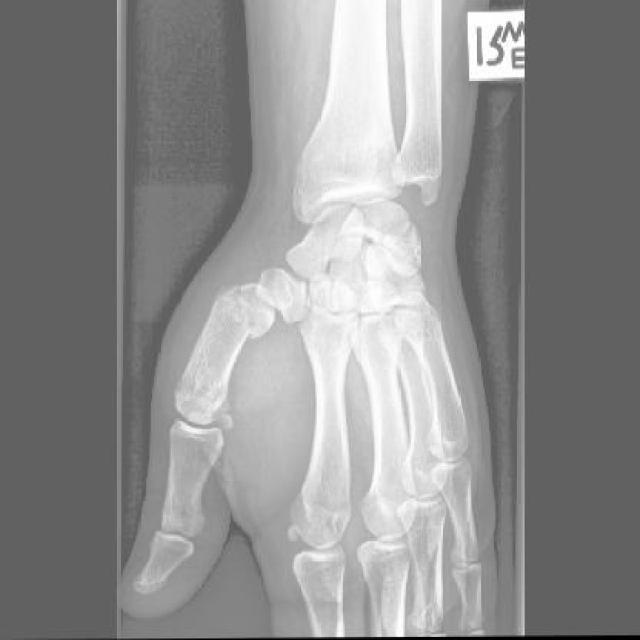Fracture: (215, 280, 268, 344)
